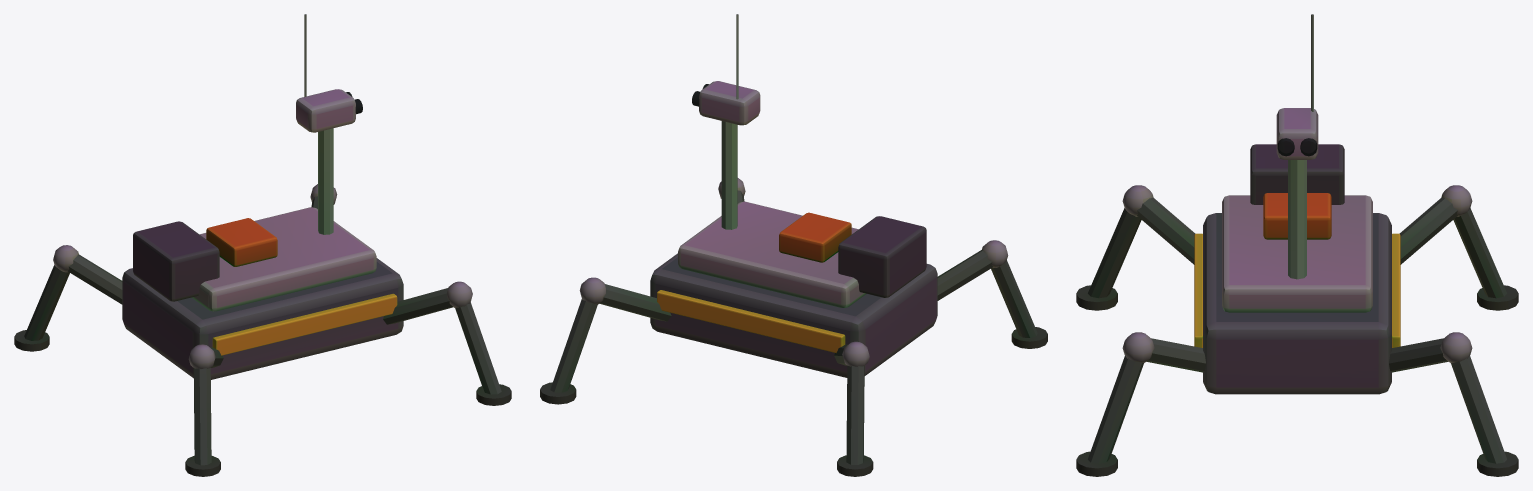
Rendered from survey_robot.glb.
3 views of the same model, side by side, from view 1: azimuth 30°, elevation 25°; view 2: azimuth 150°, elevation 25°; view 3: azimuth 270°, elevation 25° (orthographic). The views are drawn at different scales.
Parts seen in each view (by area): view 1: robot__m; view 2: robot__m; view 3: robot__m.
Boxes of the visible parts, x1,y1,x2,y2 form: robot__m: (14,14,511,476); robot__m: (540,14,1047,476); robot__m: (1076,14,1518,476).
Bounding box in the file's own units: 2.3 × 2.32 × 2.34.
